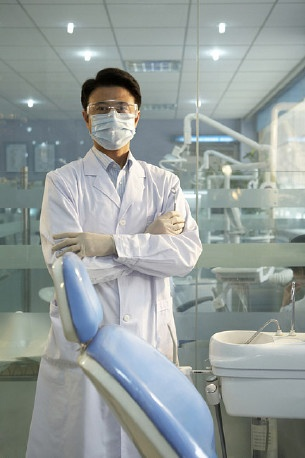Mask: (86, 98, 140, 153)
